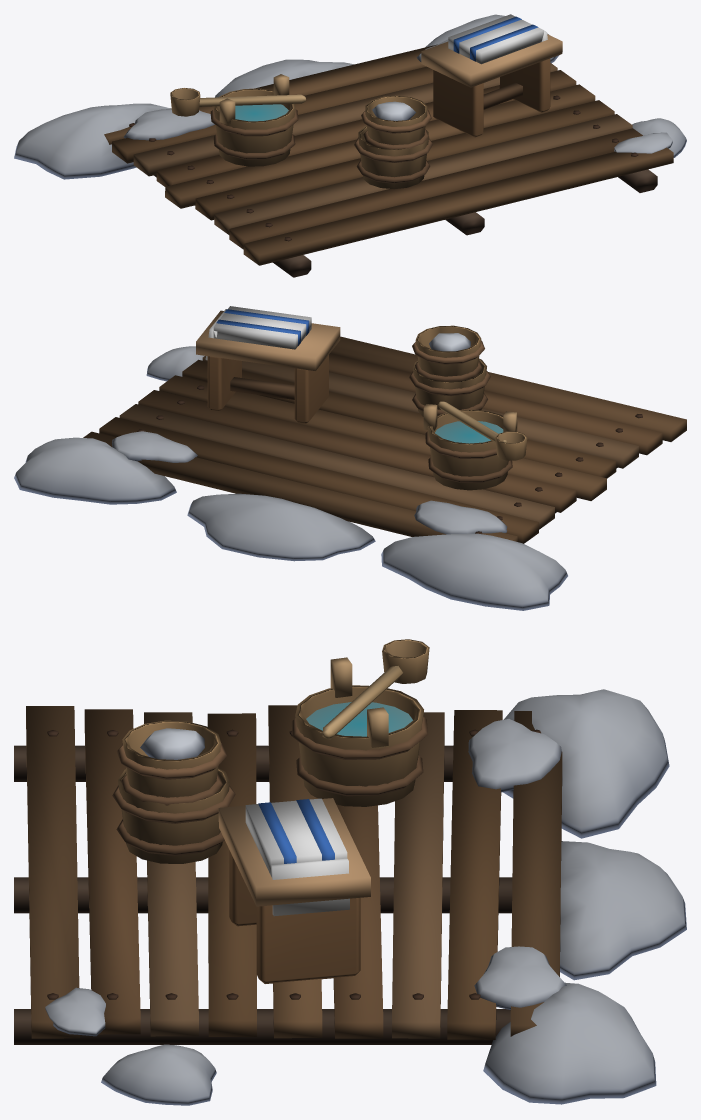
File: dg-onsen-bathDeck.glb
3 views of the same model, one above another, from view 1: azimuth 30°, elevation 25°; view 2: azimuth 150°, elevation 25°; view 3: azimuth 270°, elevation 25° (orthographic). The views are drawn at different scales.
Visible parts, largest first — view 1: body, water; view 2: body, water; view 3: body, water.
Boxes of the visible parts, left/top/right/bottom form: body: left=14, top=14, right=686, bottom=277; water: left=235, top=104, right=288, bottom=121; body: left=14, top=306, right=686, bottom=610; water: left=435, top=421, right=503, bottom=443; body: left=14, top=639, right=686, bottom=1105; water: left=306, top=702, right=412, bottom=736.
Size of the model in its own units: 2.19 by 0.4269 by 1.56.
